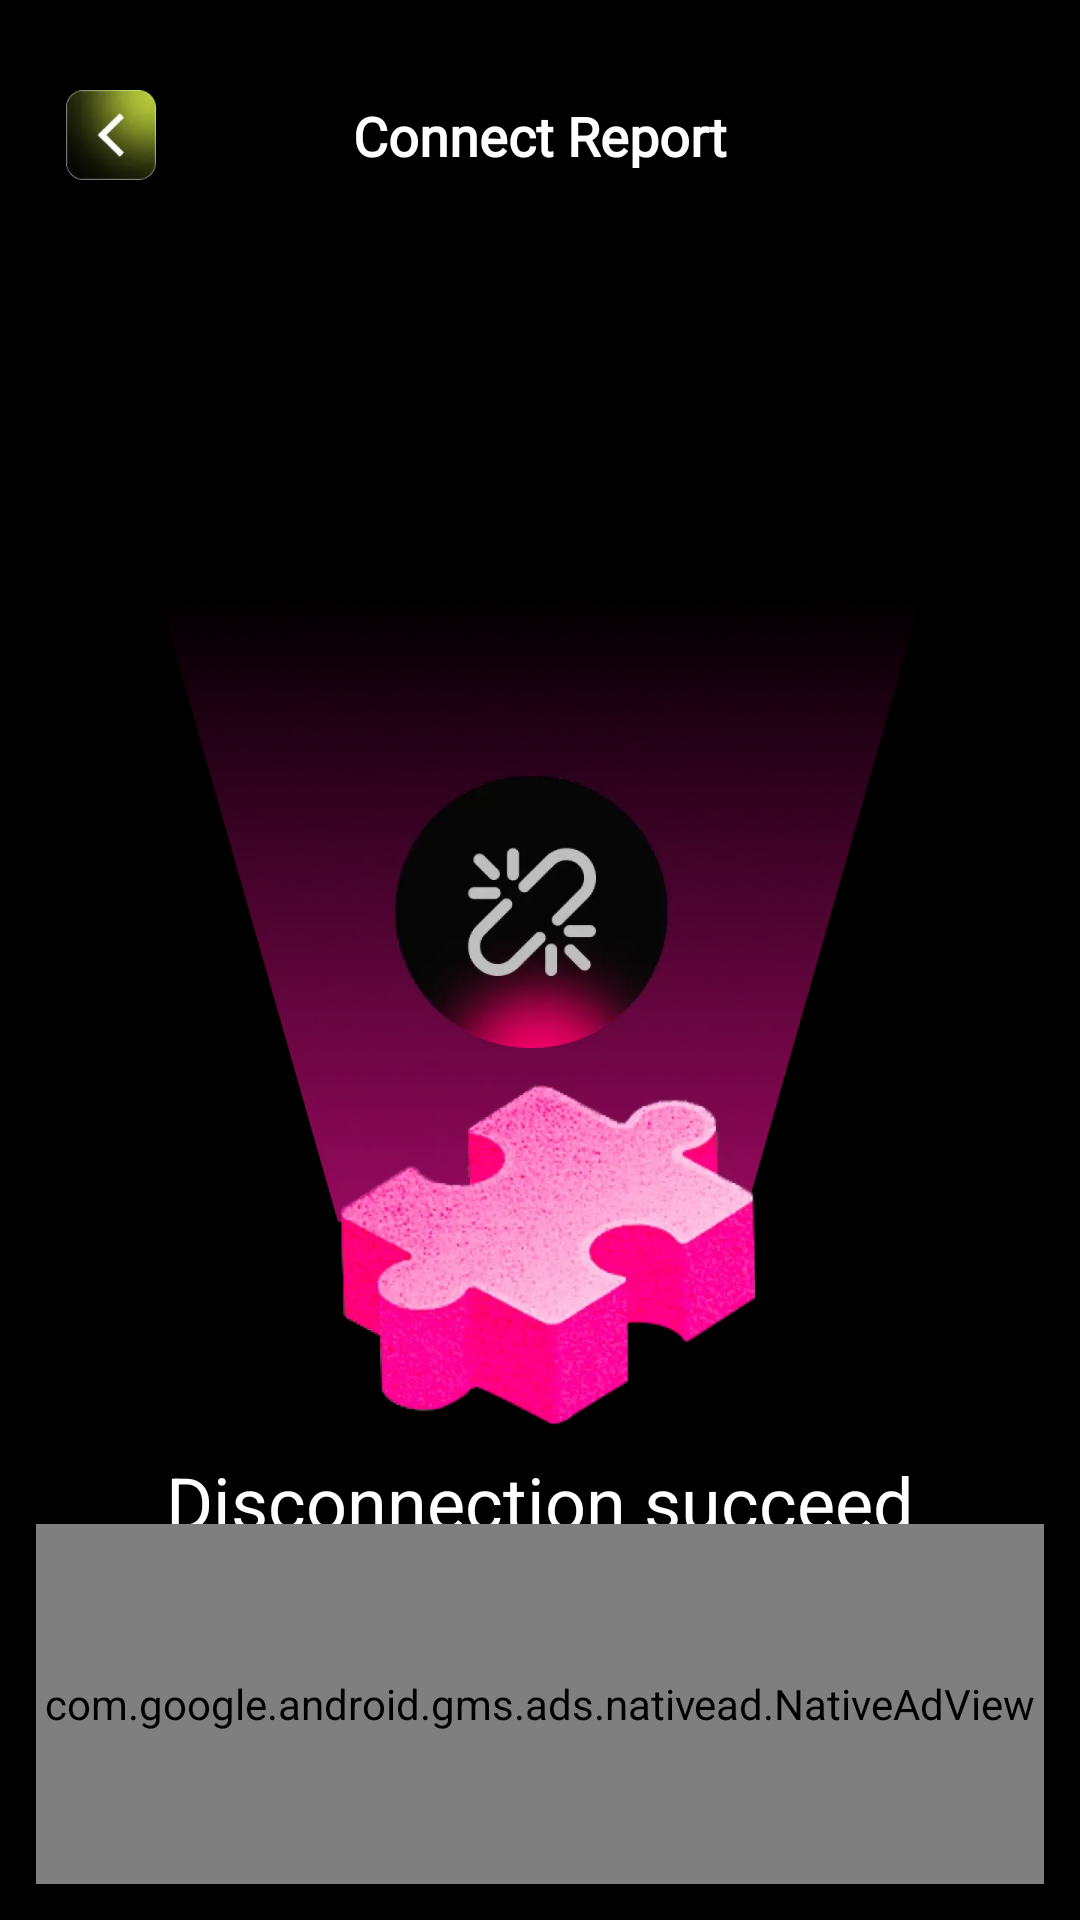

Named icons in this screenshot (1080 × 1920) and their centers, [x,y]:
back: [111,135]
